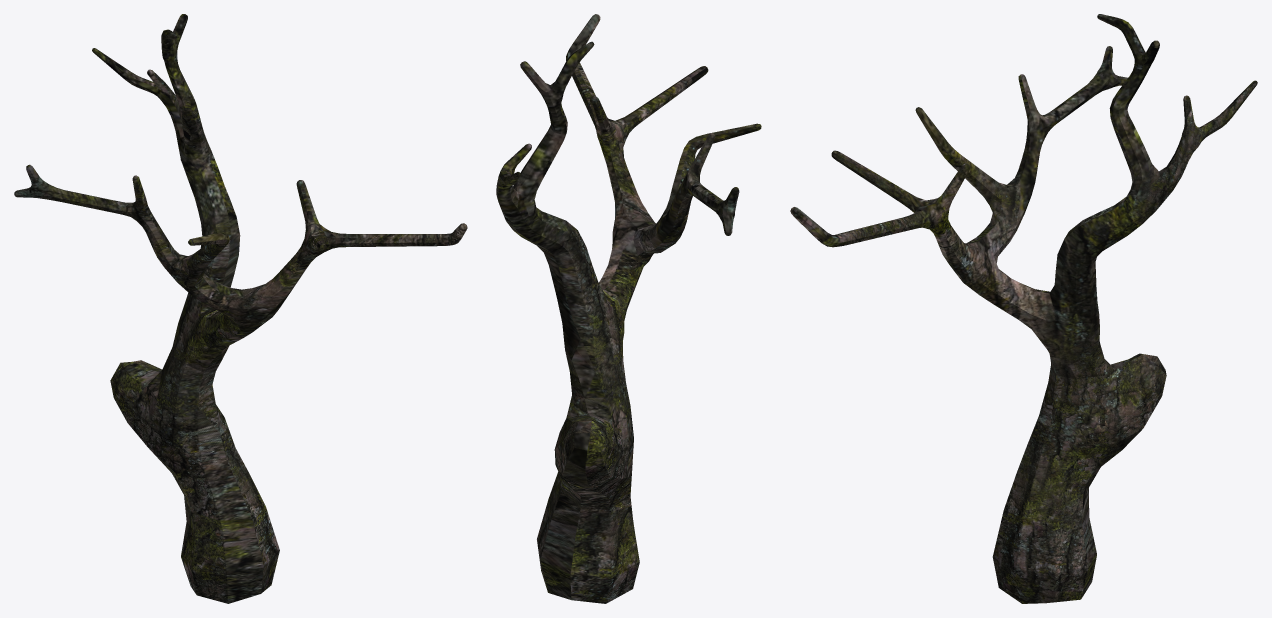
File: tree4.obj
3 views of the same model, side by side, from view 1: azimuth 30°, elevation 25°; view 2: azimuth 150°, elevation 25°; view 3: azimuth 270°, elevation 25° (orthographic). The views are drawn at different scales.
Visible parts, largest first — view 1: Cube; view 2: Cube; view 3: Cube.
Part boxes in pixels (bbox=[...]): Cube: bbox=[14, 14, 467, 603]; Cube: bbox=[496, 14, 761, 603]; Cube: bbox=[790, 14, 1257, 603].
Size of the model in its own units: 4.08 by 7.19 by 5.31.
